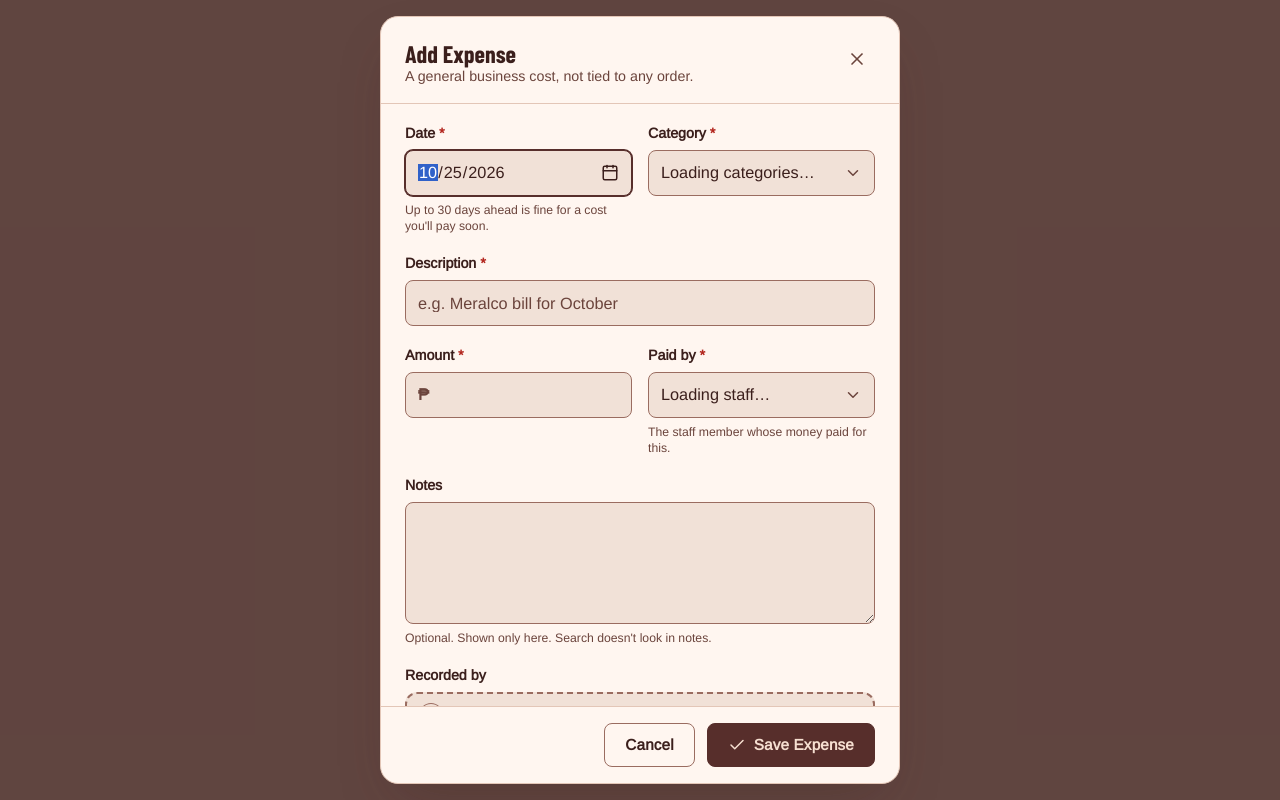
Test: E2 add mode › shows the Date label, box and hint with no date written out beside the box (D-63)
The width and height of the screenshot is (1280, 800).
Type "2026-11-02" into the date field labelled "Date *" at {"x": 518, "y": 173}, box [406,151,631,195]
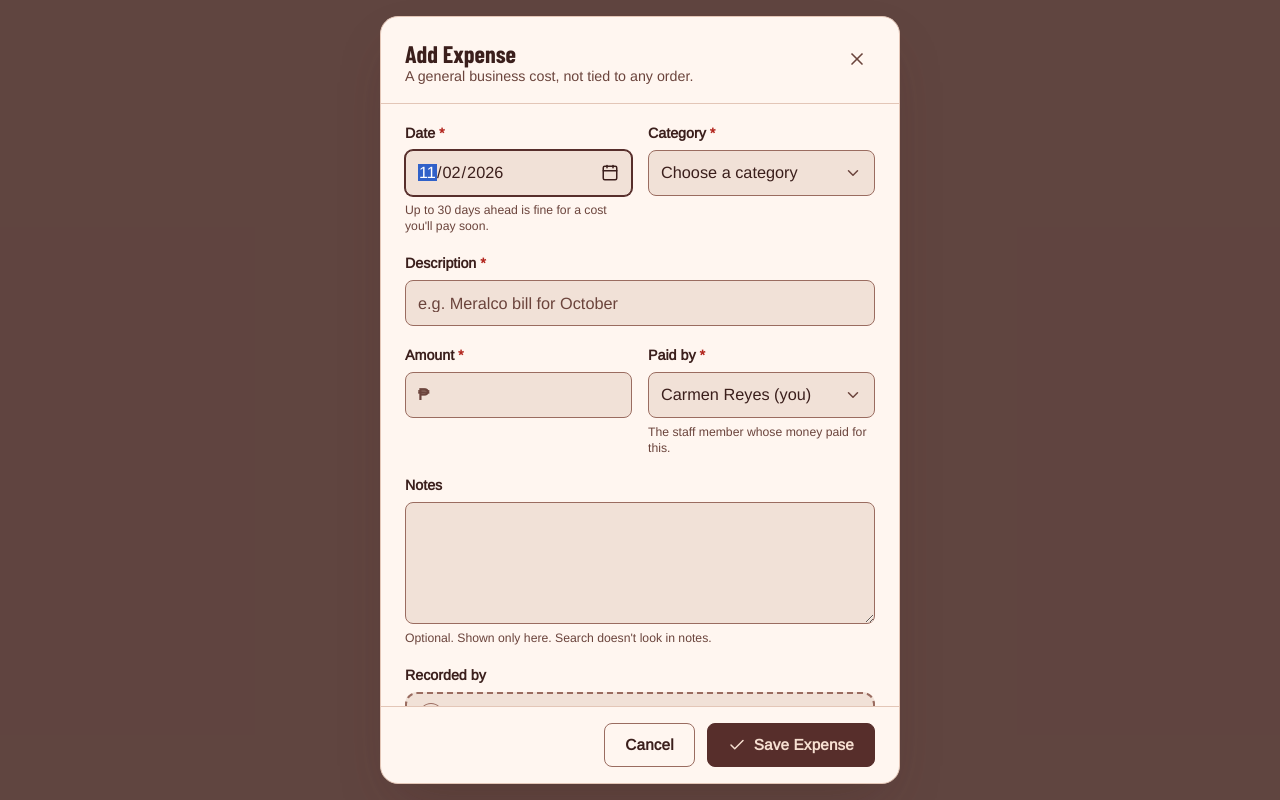
expect the dropdown labelled "Category *" is enabled: met, box [649,151,874,195]
expect the dropdown labelled "Paid by *" is enabled: met, box [649,373,874,417]
